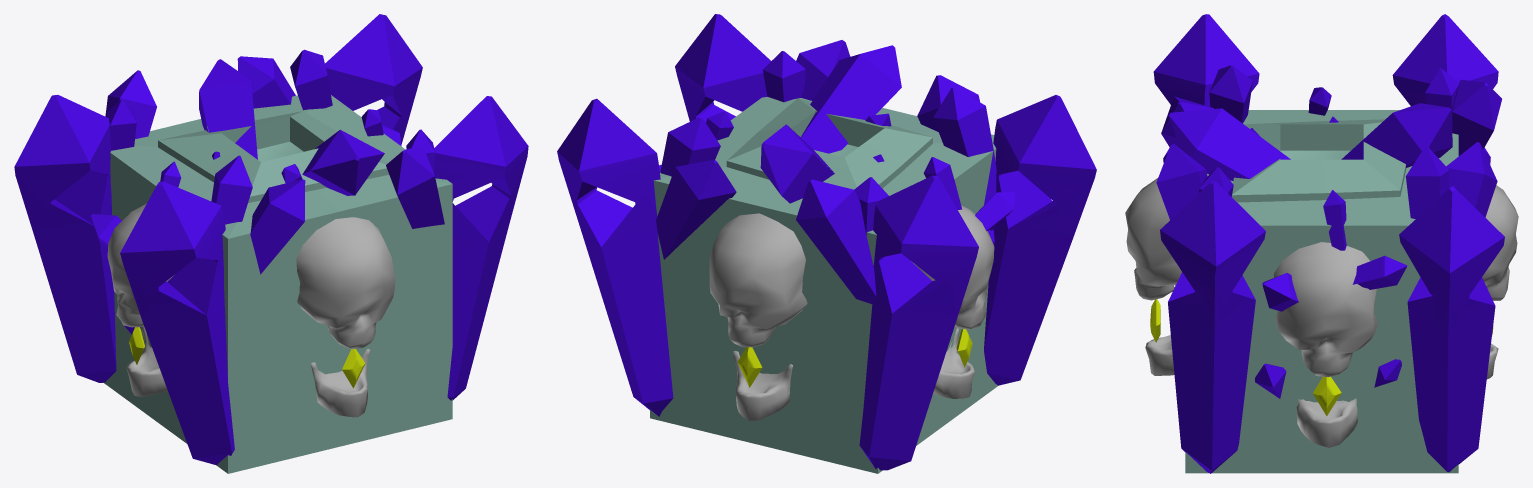
Rendered from Laser_Dispenser_V1.fbx.
3 renders of one model, left to right at view 1: azimuth 30°, elevation 25°; view 2: azimuth 150°, elevation 25°; view 3: azimuth 270°, elevation 25°, orthographic. The views are drawn at different scales.
Visible parts, largest first — view 1: Crystals_Low, Base_Low, Skull_Low, LaserCrystals_Low; view 2: Crystals_Low, Base_Low, Skull_Low, LaserCrystals_Low; view 3: Crystals_Low, Base_Low, Skull_Low, LaserCrystals_Low.
Boxes of the visible parts, x1,y1,x2,y2 form: Crystals_Low: (14,14,528,465); Base_Low: (104,95,452,473); Skull_Low: (107,203,395,417); LaserCrystals_Low: (129,327,365,388); Crystals_Low: (557,14,1096,470); Base_Low: (650,97,998,473); Skull_Low: (709,205,994,420); LaserCrystals_Low: (737,328,972,387); Crystals_Low: (1153,14,1504,473); Base_Low: (1185,110,1458,473); Skull_Low: (1125,178,1518,447); LaserCrystals_Low: (1150,299,1493,415).
Bounding box in the file's own units: 4.4 × 3.03 × 3.41.
